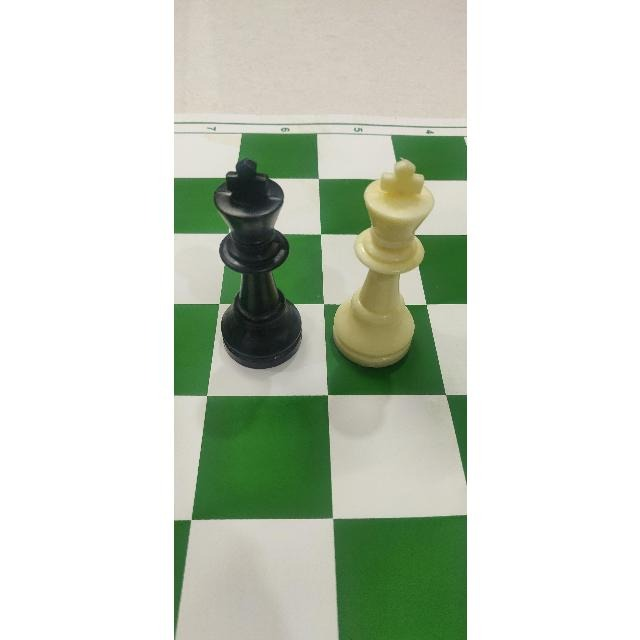black-king: (197, 158, 309, 367)
white-king: (328, 148, 433, 374)
